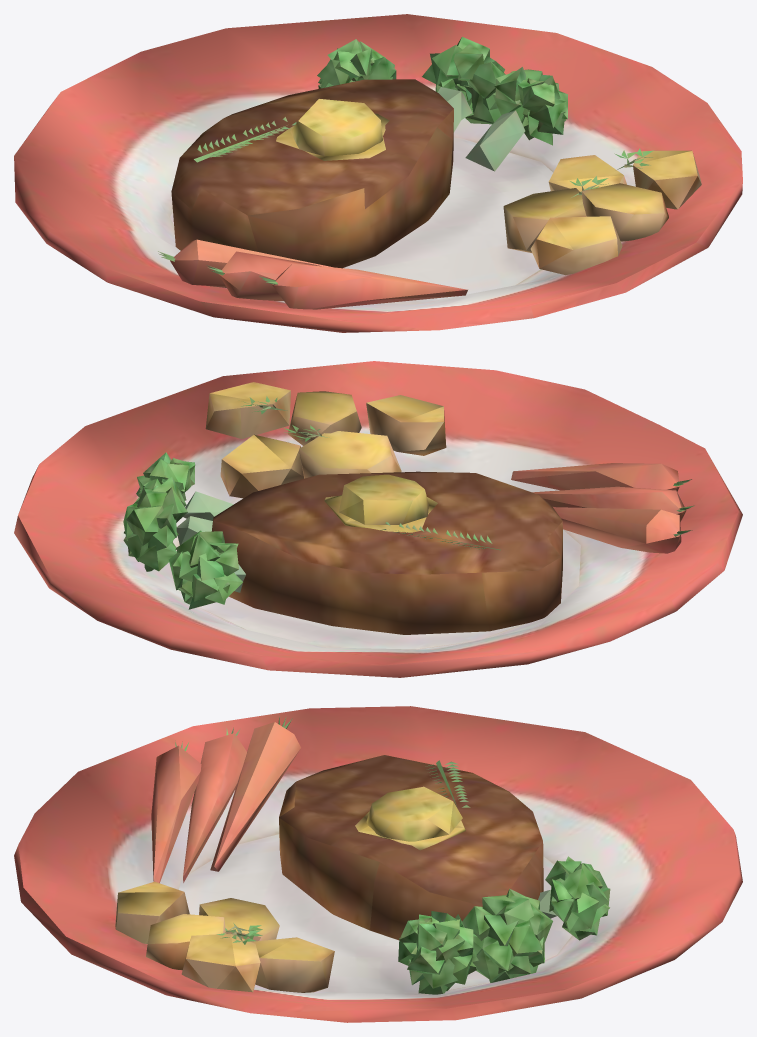
Rendered from food-steak-plate.glb.
The picture shows the model from 3 angles, top to bottom: view 1: azimuth 30°, elevation 25°; view 2: azimuth 150°, elevation 25°; view 3: azimuth 270°, elevation 25°; orthographic projection.
Parts seen in each view (by area): view 1: steak-plate_body; view 2: steak-plate_body; view 3: steak-plate_body.
Boxes of the visible parts, left/top/right/bottom form: steak-plate_body: left=14, top=14, right=742, bottom=332; steak-plate_body: left=14, top=361, right=742, bottom=677; steak-plate_body: left=14, top=706, right=742, bottom=1022.
Size of the model in its own units: 4.6 by 0.768 by 4.6.
Materials: 1 (1 with a texture image).
